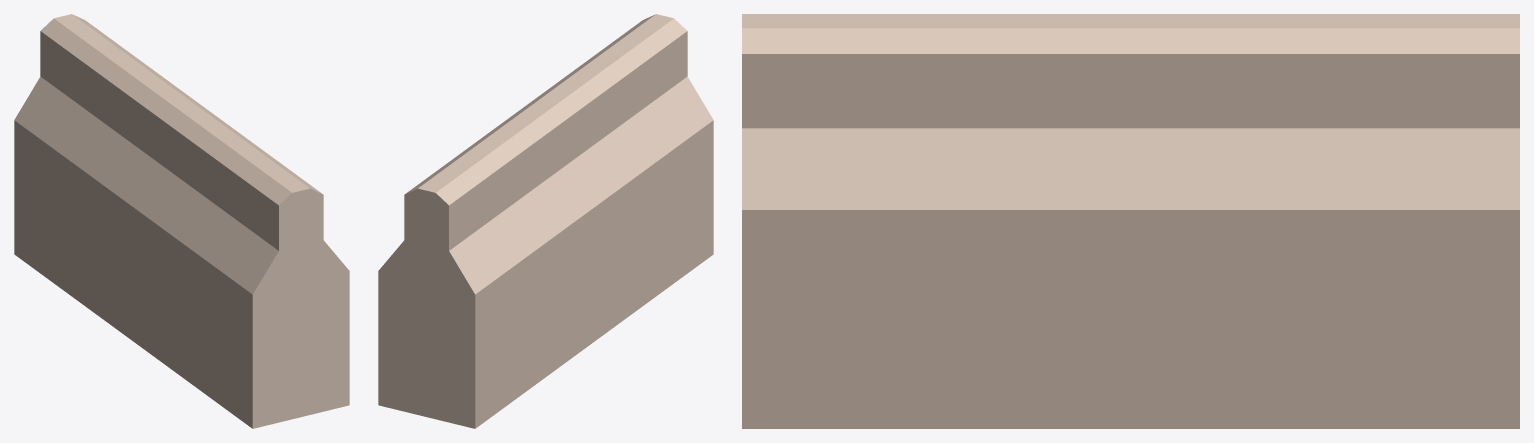
Rendered from curbHigh.FBX.
3 renders of one model, left to right at view 1: azimuth 30°, elevation 25°; view 2: azimuth 150°, elevation 25°; view 3: azimuth 270°, elevation 25°, orthographic. The views are drawn at different scales.
Visible parts, largest first — view 1: curbHigh; view 2: curbHigh; view 3: curbHigh.
Boxes of the visible parts, left/top/right/bottom form: curbHigh: left=14, top=14, right=349, bottom=428; curbHigh: left=378, top=14, right=713, bottom=428; curbHigh: left=742, top=14, right=1519, bottom=428.
Size of the model in its own units: 7.07 by 15.78 by 30.11.
